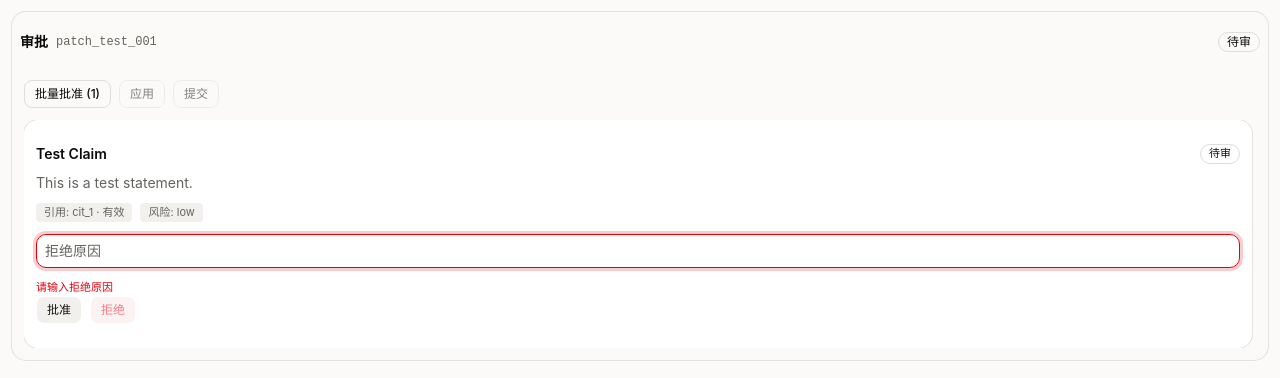
ApprovalWidget › toggles_expansion_on_header_click
Step 1. Click the button "审批 patch_test_001 待审" → (106, 42), box [12,24,1268,60]
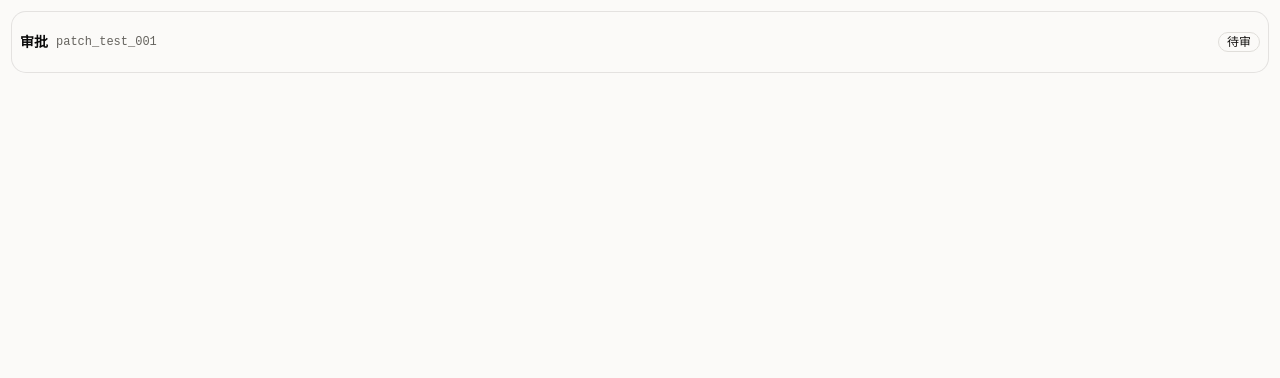
Now the text "Test Claim" is gone
